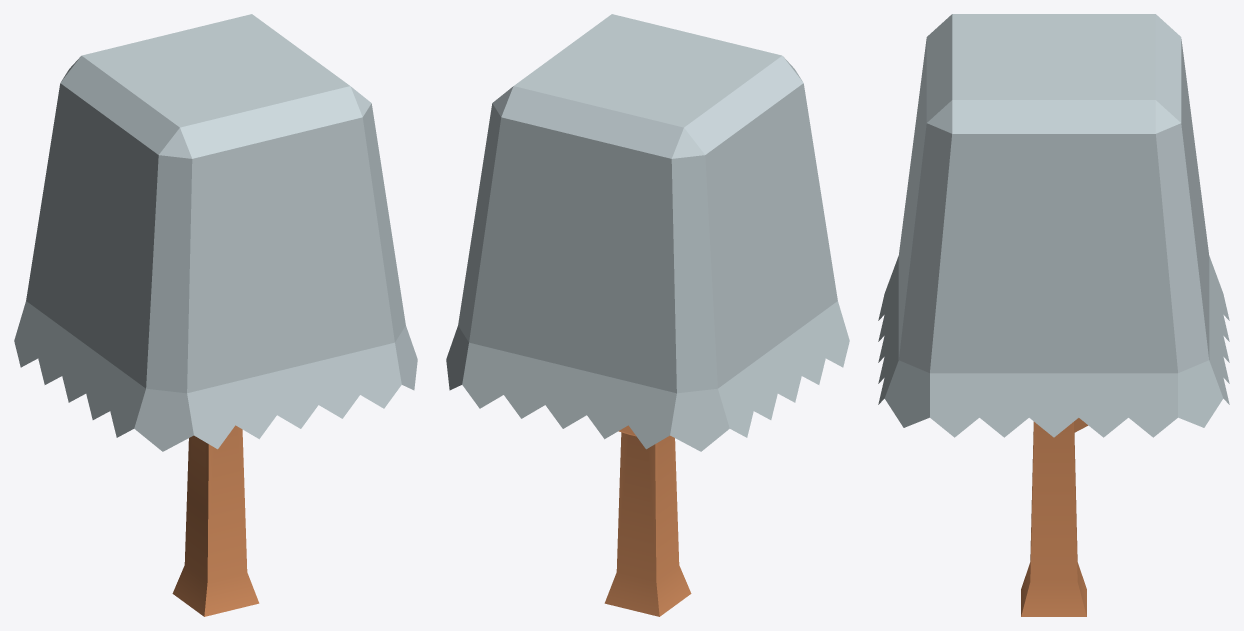
Rendered from treeSnow.fbx.
The picture shows the model from 3 angles, left to right: view 1: azimuth 30°, elevation 25°; view 2: azimuth 150°, elevation 25°; view 3: azimuth 270°, elevation 25°; orthographic projection. The views are drawn at different scales.
Parts seen in each view (by area): view 1: treeSnow; view 2: treeSnow; view 3: treeSnow.
Part boxes in pixels (x1,y1,x2,y2): treeSnow: [14, 14, 417, 616]; treeSnow: [446, 14, 849, 616]; treeSnow: [878, 14, 1229, 616].
Size of the model in its own units: 11.33 by 19.41 by 11.33.
